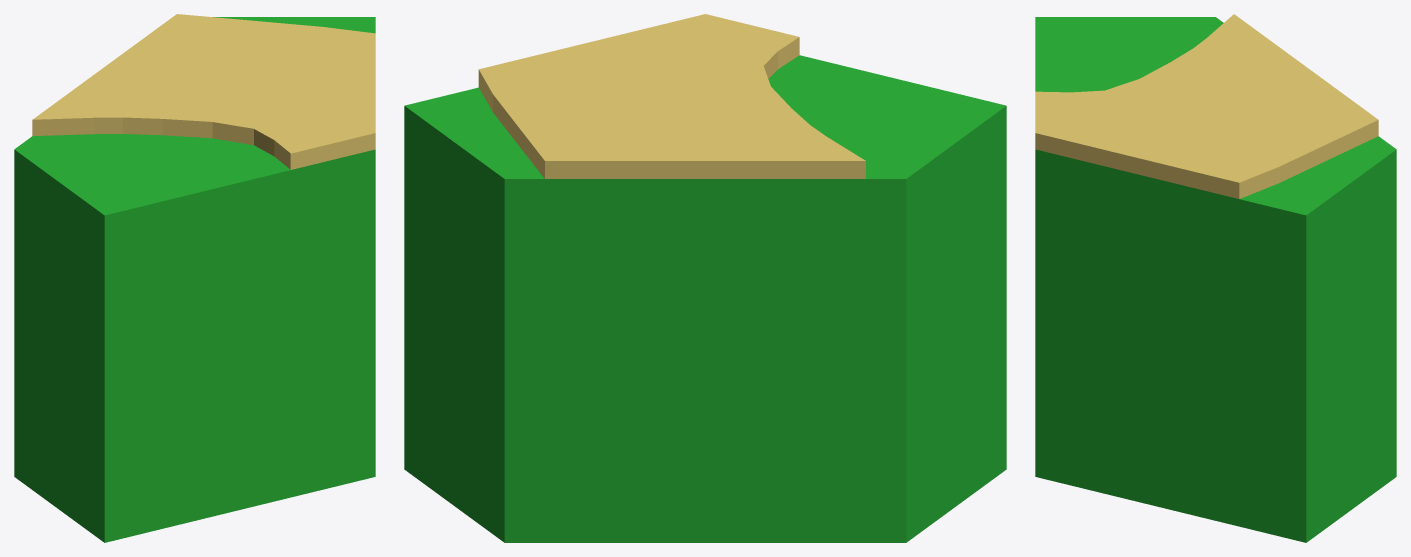
Rendered from module-corner_land_path_y_002.glb.
The picture shows the model from 3 angles, left to right: view 1: azimuth 30°, elevation 25°; view 2: azimuth 150°, elevation 25°; view 3: azimuth 270°, elevation 25°; orthographic projection. The views are drawn at different scales.
Parts seen in each view (by area): view 1: module-corner_land_path_y_002; view 2: module-corner_land_path_y_002; view 3: module-corner_land_path_y_002.
Boxes of the visible parts, left/top/right/bottom form: module-corner_land_path_y_002: left=14, top=14, right=375, bottom=542; module-corner_land_path_y_002: left=404, top=14, right=1006, bottom=542; module-corner_land_path_y_002: left=1035, top=14, right=1396, bottom=542.
Size of the model in its own units: 0.6495 by 0.525 by 0.5.
